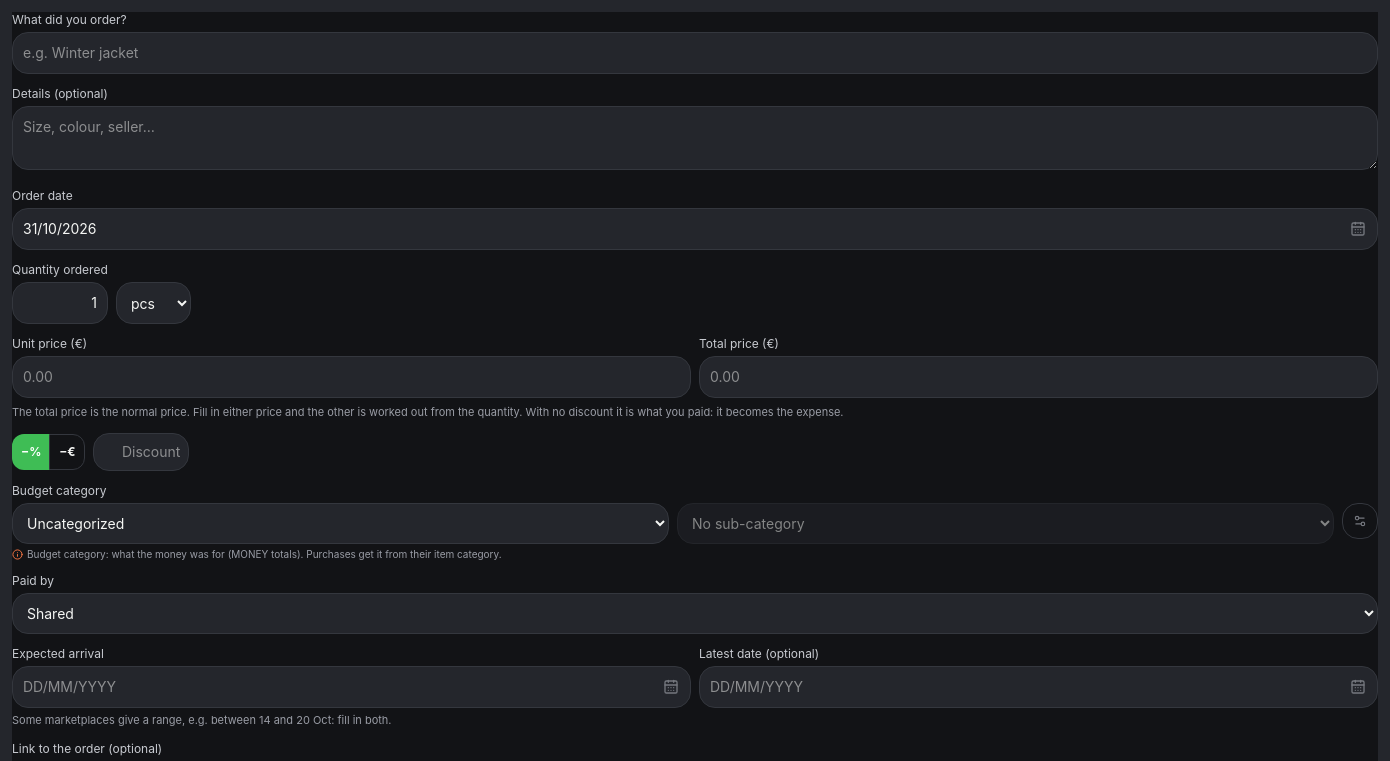
Test: the order form: quantity, unit price and total price › changing the quantity after a unit price changes the total
In the field named "Item name": (695, 53) [12,32,1378,74], type "Cat Wet Food"
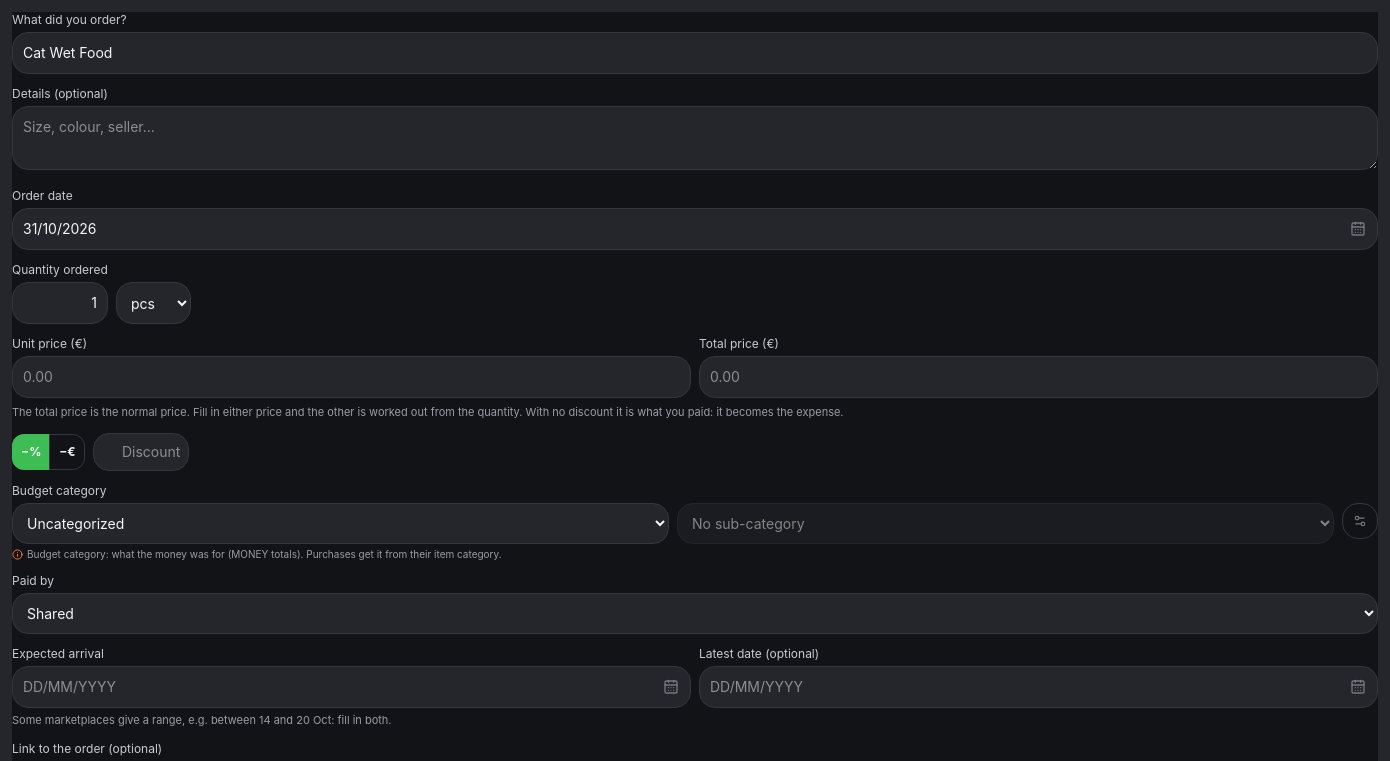
Replace the text in the field named "Quantity ordered" with "2": (60, 303) [12,282,108,324]
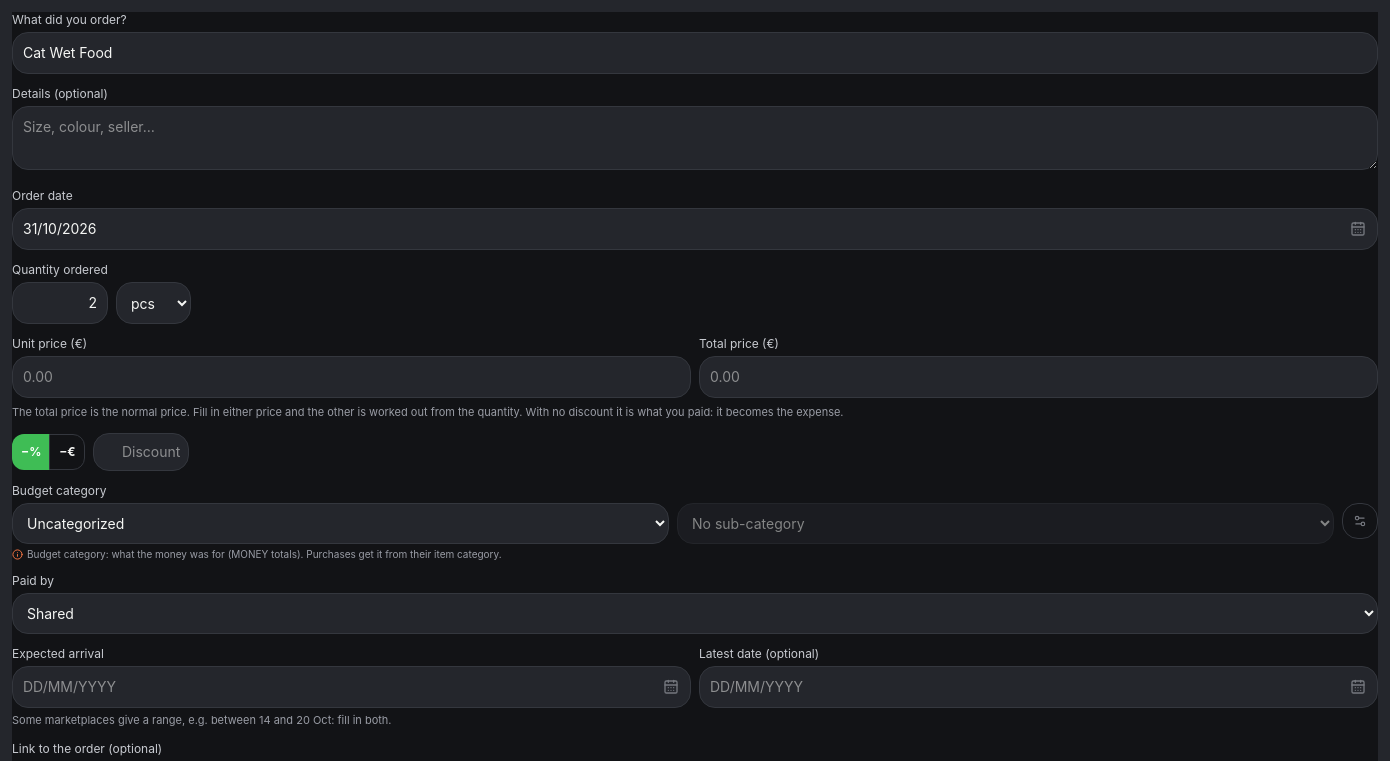
In the field named "Unit price": (352, 377) [12,356,691,398], type "6,65"
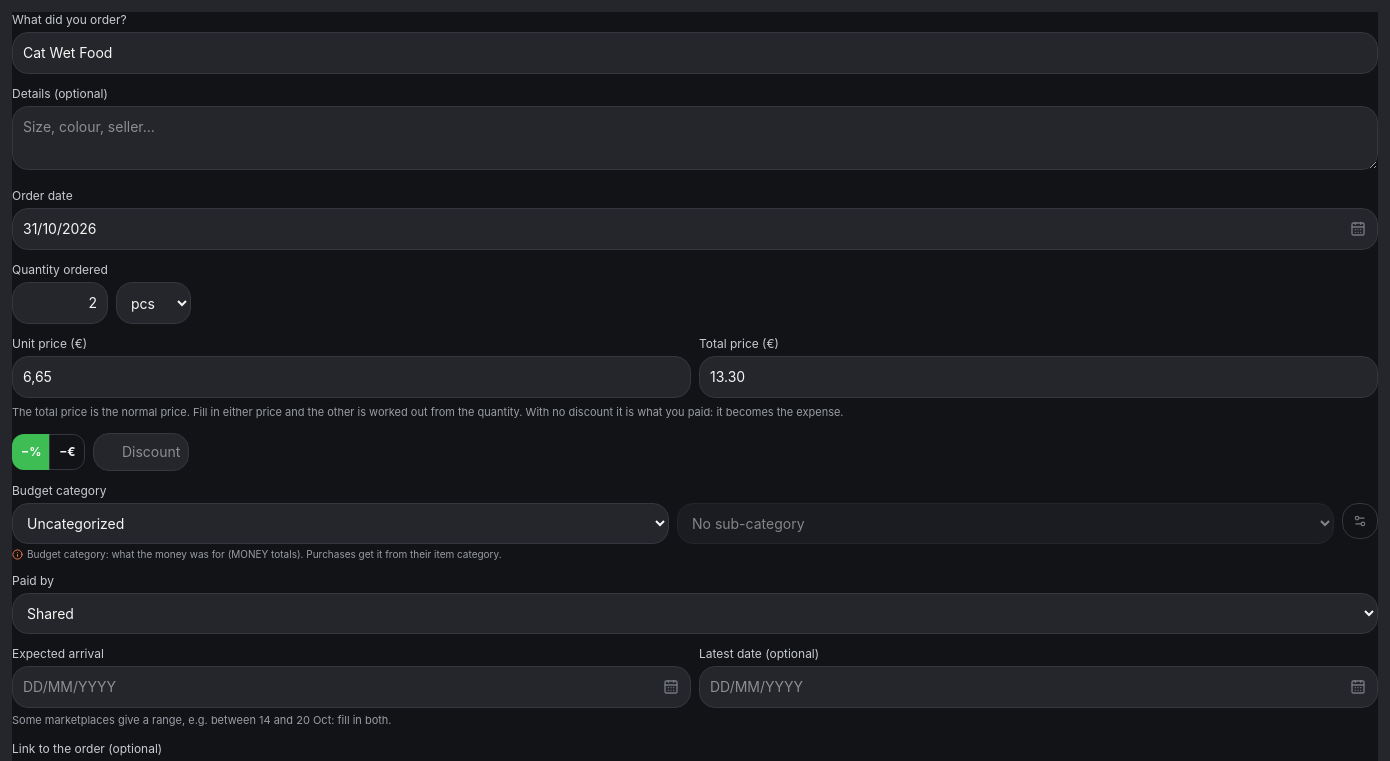
Replace the text in the field named "Quantity ordered" with "3": (60, 303) [12,282,108,324]
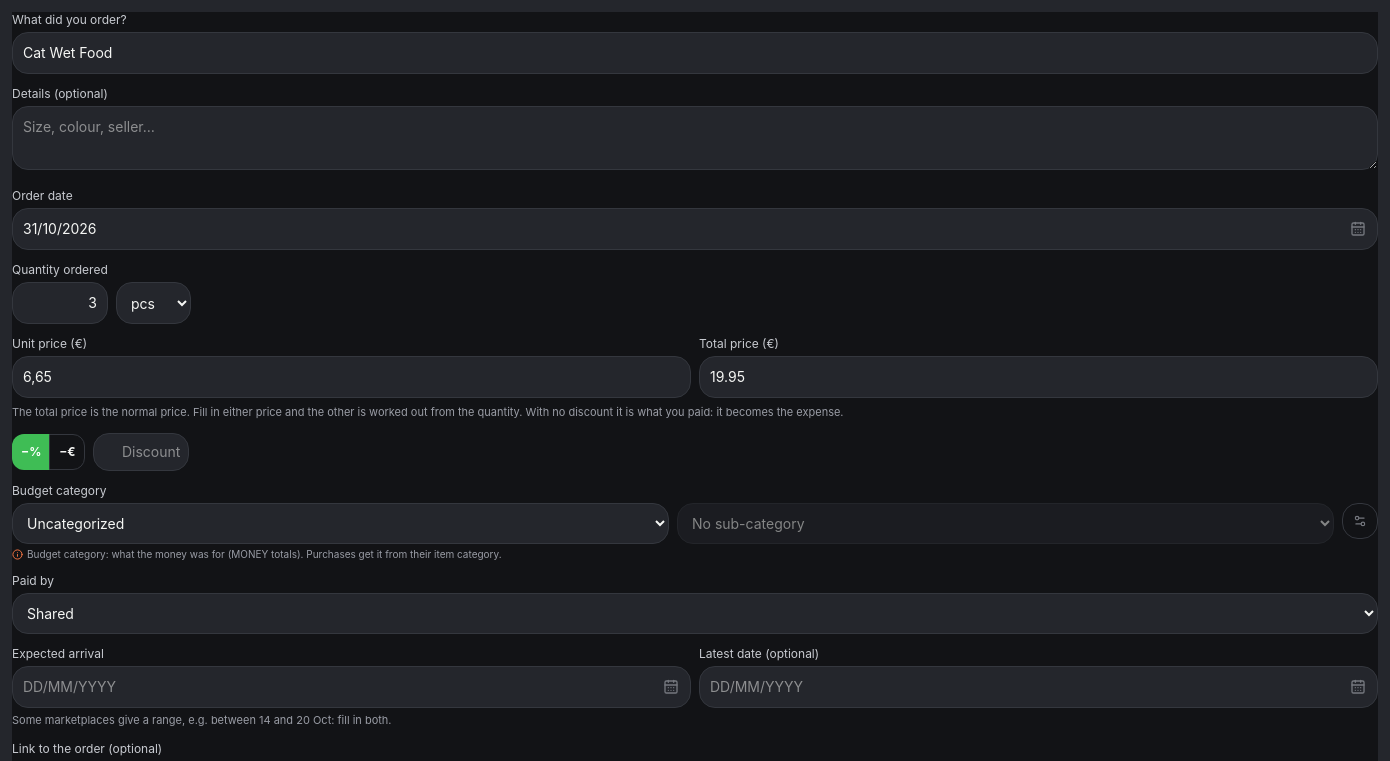
Expected: the field named "Total price" holds "19.95", [699,356,1378,398]
Replace the text in the field named "Quantity ordered" with "1,5": (60, 303) [12,282,108,324]
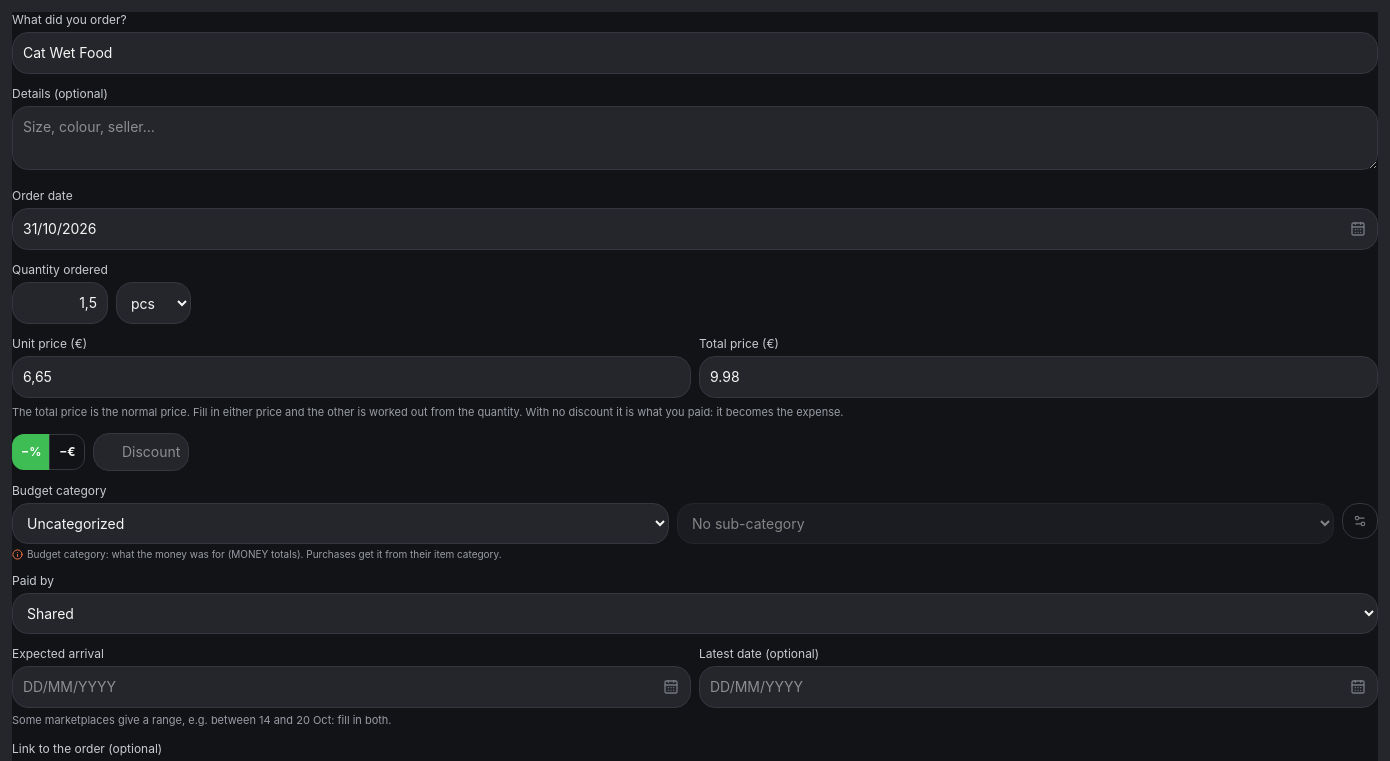
Expected: the field named "Total price" holds "9.98", [699,356,1378,398]
